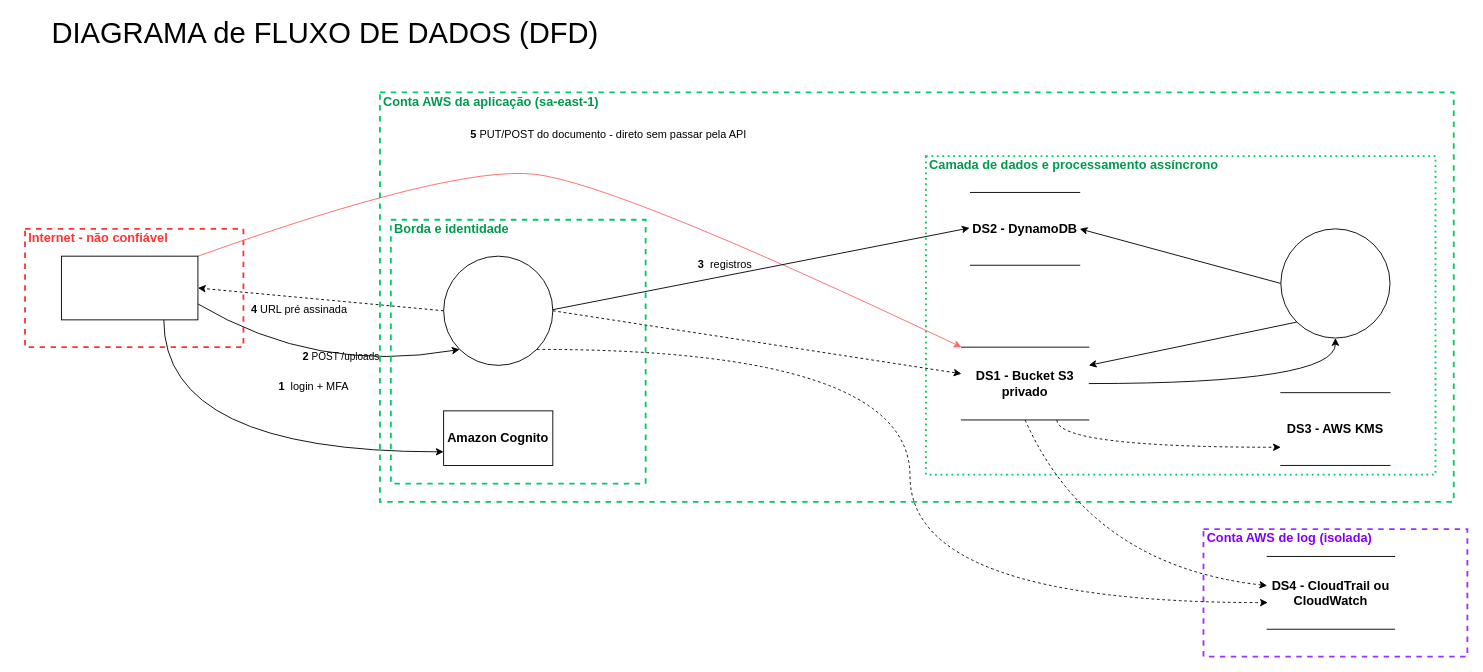
Image size: 1483x672. Some labels were removed from this diagram. The centre of each missing label's shape, as x and y in pixels:
P1 - Upload API: (x=498, y=310)
P2 - Scanner de malware: (x=1335, y=283)
Usuário autenticado: (x=129, y=287)
